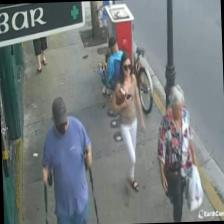person: (38, 95, 93, 224), (155, 84, 199, 222), (110, 51, 146, 190)
